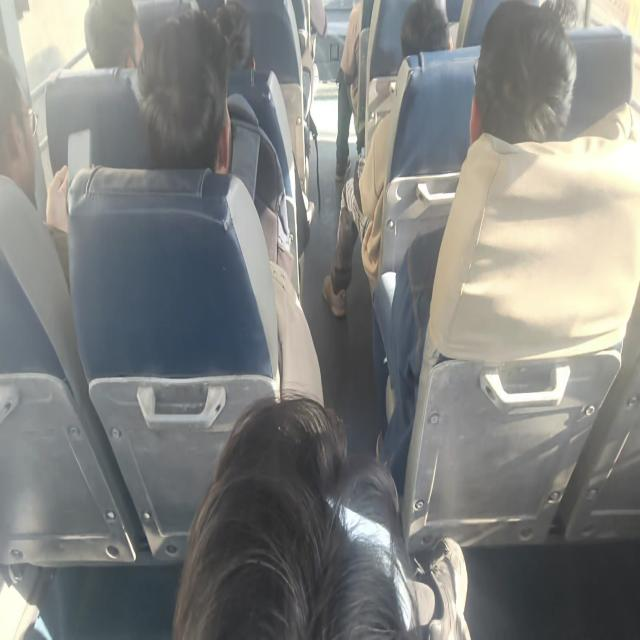person: (172, 396, 472, 640), (466, 9, 566, 159), (143, 33, 239, 158), (0, 96, 47, 209), (209, 5, 264, 87), (85, 0, 142, 72), (404, 0, 451, 75)
